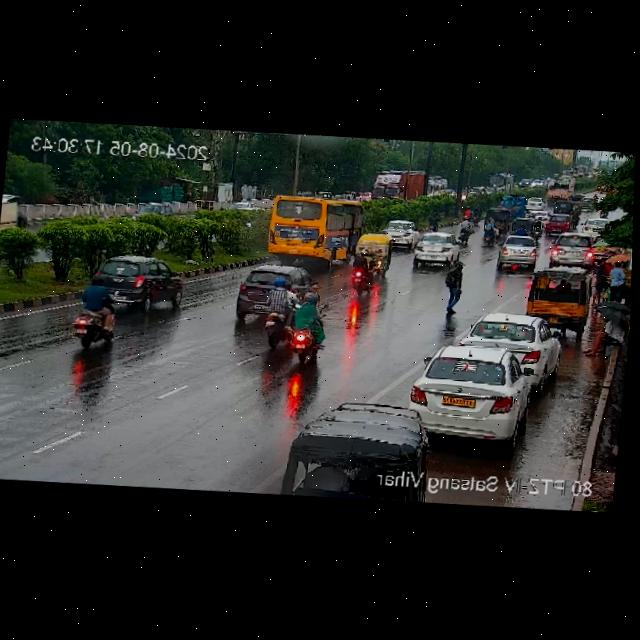bus: (261, 189, 363, 263), (484, 171, 515, 195)
car: (286, 393, 425, 504), (405, 340, 543, 445), (464, 310, 560, 372), (89, 253, 188, 313), (231, 263, 316, 318), (528, 271, 591, 325), (412, 229, 461, 267), (356, 232, 394, 273), (548, 235, 595, 268), (500, 234, 539, 267), (377, 218, 418, 249), (131, 201, 172, 221), (543, 211, 571, 234), (507, 215, 534, 238), (582, 216, 609, 237), (493, 209, 509, 234), (524, 196, 543, 212), (579, 198, 594, 211), (540, 210, 549, 227)
motorcycle: (70, 278, 125, 351), (255, 275, 296, 355), (290, 293, 328, 372), (348, 257, 375, 295), (480, 216, 500, 245), (456, 216, 472, 243), (426, 207, 442, 232), (532, 215, 545, 242), (470, 201, 482, 224), (569, 206, 581, 229), (516, 224, 529, 235), (462, 203, 472, 216)
person: (581, 308, 627, 359), (439, 258, 464, 313), (604, 260, 629, 300)
truck: (362, 166, 444, 206), (545, 175, 576, 204), (496, 195, 525, 213)
